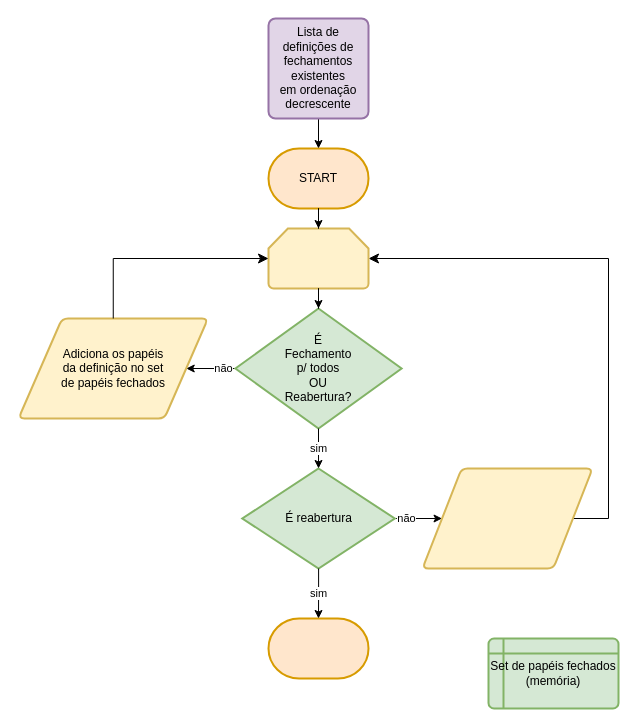
Image size: 636x726. Some labels were removed from this diagram. Here are the shapes that lost their labels. From the top down, the centre of each, then its label:
the point at 318,258: P/ cada definição
the point at 507,518: Adiciona todos os papéis do usuário na lista em memória
the point at 318,648: END
